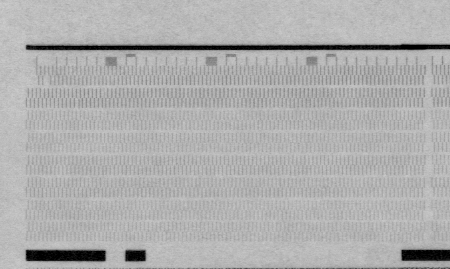Broken hole: (26, 66, 40, 85), (41, 74, 52, 86)
